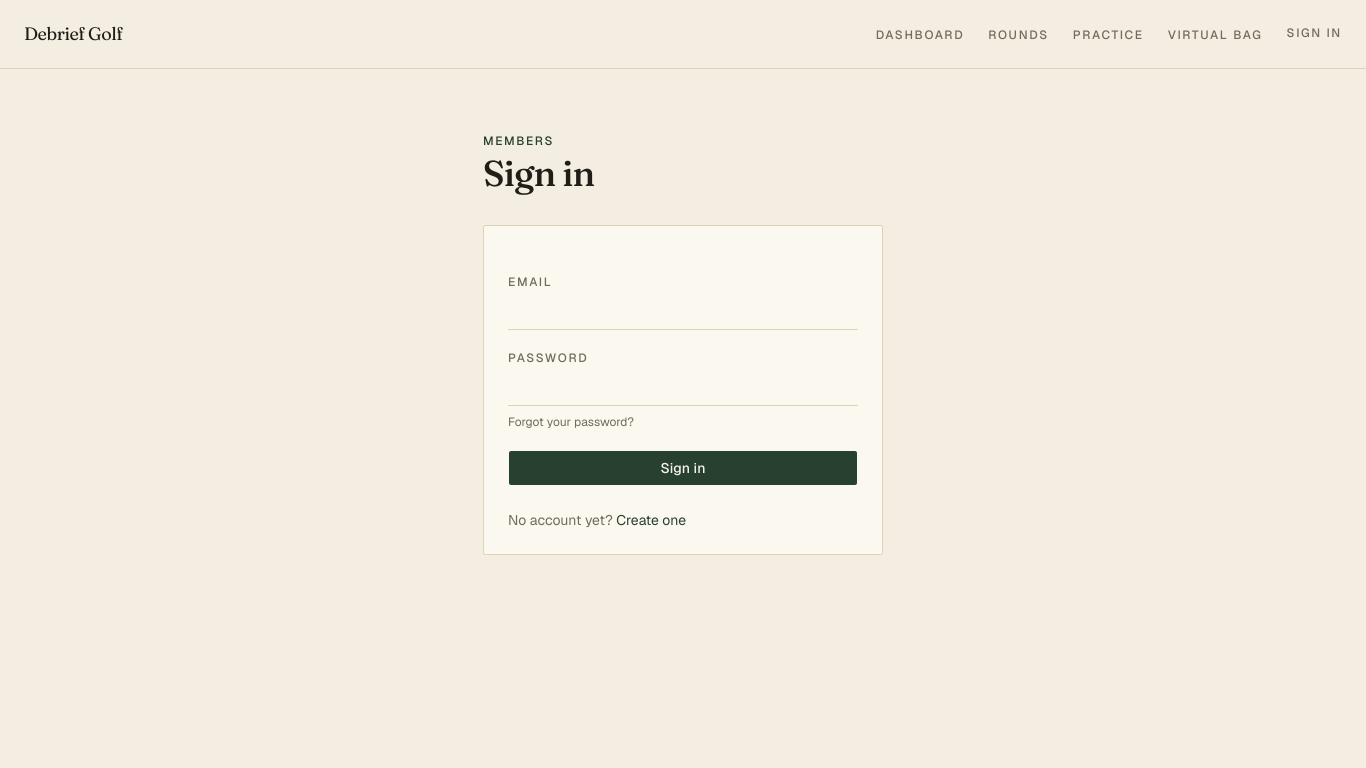
Test: LoginPage › does not offer forgot-password while creating an account
Step 1. Click the button "Create one" → (651, 520), box [616,510,686,530]
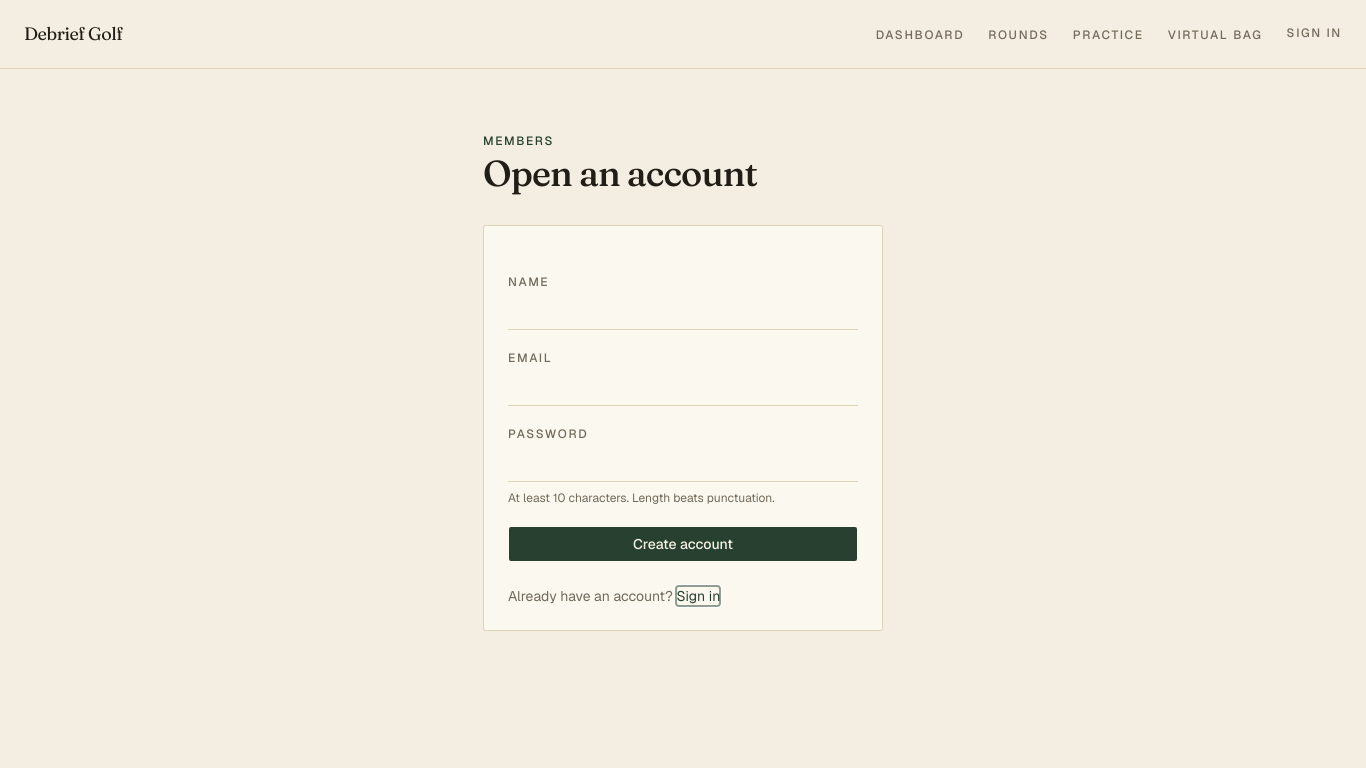
Result: the link "Forgot your password?" is gone
